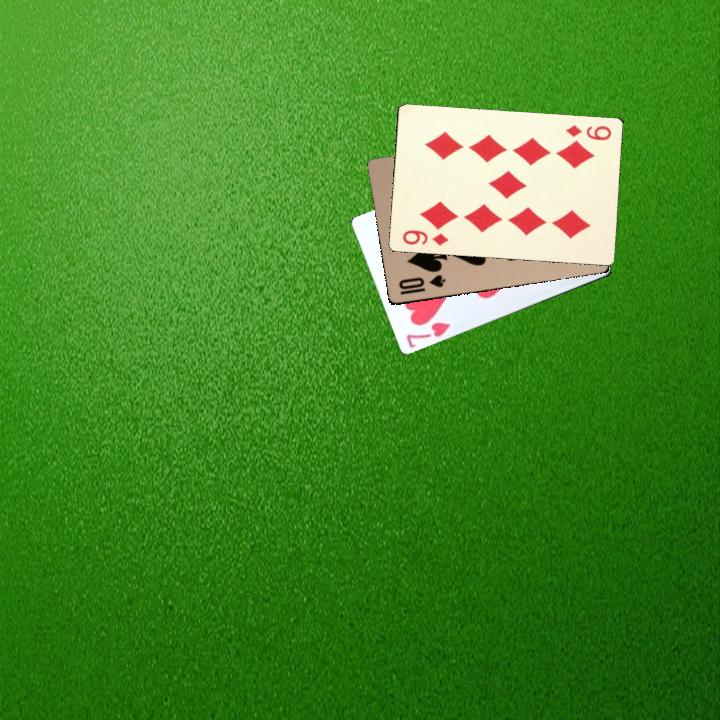10s: (394, 270, 448, 297)
7h: (402, 318, 453, 350)
9d: (398, 226, 451, 248), (562, 121, 614, 143)
